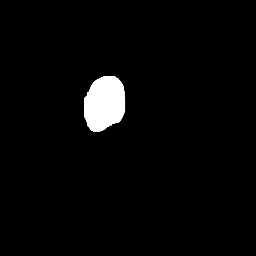mass: (86, 75, 128, 133)
